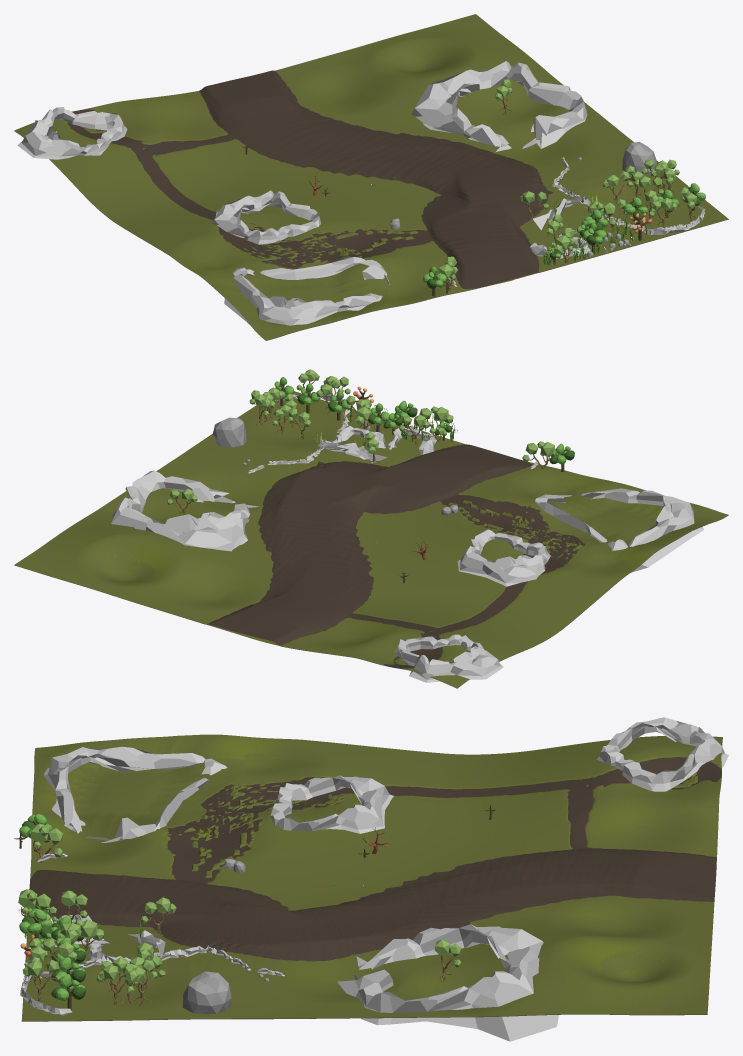
The model's file is Terrain.glb.
3 renders of one model, top to bottom at view 1: azimuth 30°, elevation 25°; view 2: azimuth 150°, elevation 25°; view 3: azimuth 270°, elevation 25°, orthographic. The views are drawn at different scales.
Parts seen in each view (by area): view 1: Plane.010, Cube.029, Cube.039, Cube.040, Cube.028, Icosphere.020, Cube.026; view 2: Plane.010, Cube.029, Cube.039, Cube.040, Cube.028, Cube.026, Icosphere.020, Cube.025; view 3: Plane.010, Cube.029, Cube.039, Cube.028, Cube.040, Icosphere.020, Cube.026, Tree_lp_11.021, Cylinder.022, Cylinder.008, Tree_lp_11.011, Tree_lp_11.007 (+2 smaller).
Boxes of the visible parts, bbox=[...] form: Plane.010: bbox=[14, 14, 728, 340]; Cube.029: bbox=[411, 61, 587, 151]; Cube.039: bbox=[224, 257, 390, 325]; Cube.040: bbox=[17, 107, 127, 159]; Cube.028: bbox=[212, 190, 321, 244]; Icosphere.020: bbox=[622, 141, 656, 175]; Cube.026: bbox=[533, 195, 603, 233]; Plane.010: bbox=[14, 391, 728, 688]; Cube.029: bbox=[111, 470, 259, 551]; Cube.039: bbox=[535, 488, 703, 572]; Cube.040: bbox=[394, 634, 503, 682]; Cube.028: bbox=[457, 529, 550, 586]; Cube.026: bbox=[316, 426, 387, 463]; Icosphere.020: bbox=[212, 417, 246, 447]; Cube.025: bbox=[387, 427, 436, 455]; Plane.010: bbox=[21, 734, 722, 1021]; Cube.029: bbox=[337, 924, 558, 1041]; Cube.039: bbox=[44, 746, 227, 842]; Cube.028: bbox=[270, 775, 393, 833]; Cube.040: bbox=[596, 717, 728, 791]; Icosphere.020: bbox=[182, 971, 231, 1014]; Cube.026: bbox=[84, 930, 165, 962]; Tree_lp_11.021: bbox=[30, 823, 63, 862]; Cylinder.022: bbox=[19, 909, 52, 938]; Cylinder.008: bbox=[51, 974, 86, 1010]; Tree_lp_11.011: bbox=[55, 919, 103, 950]; Tree_lp_11.007: bbox=[18, 889, 51, 919].
Size of the model in its own units: 529 by 67.65 by 536.
Materials: 36 (3 with a texture image).
